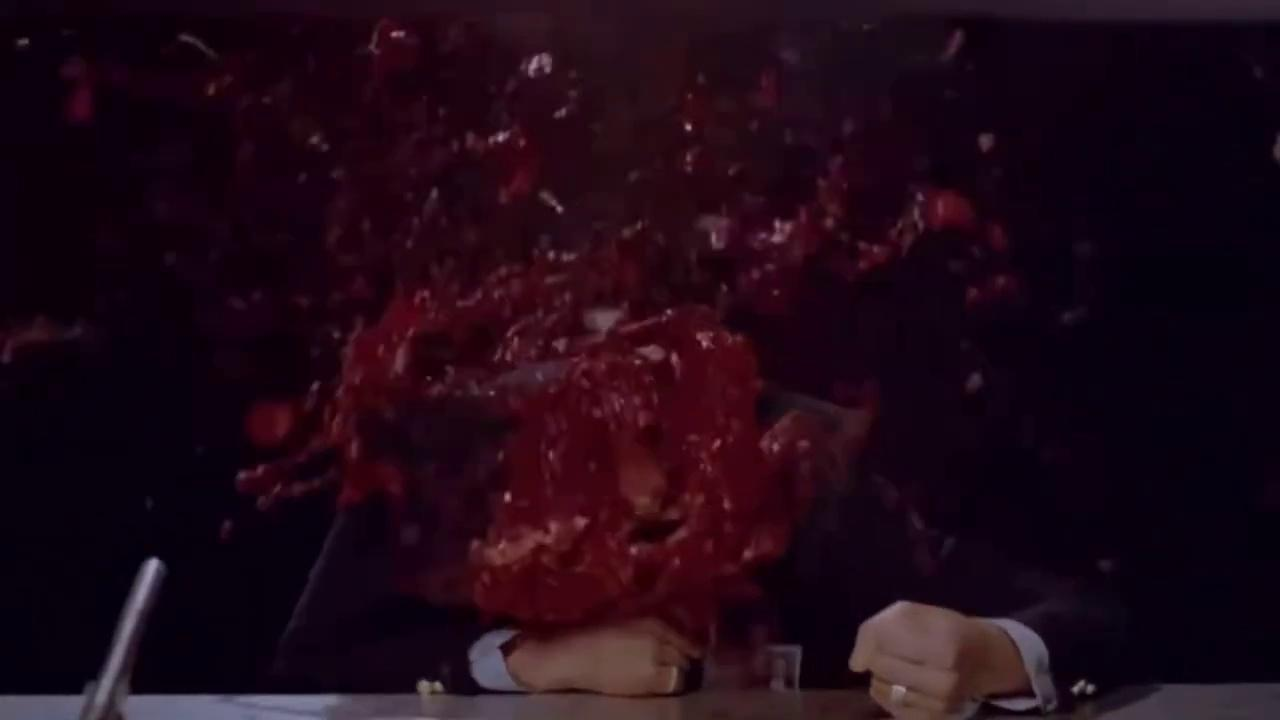Fire: (122, 22, 1013, 682), (0, 316, 81, 365), (53, 52, 103, 125)
